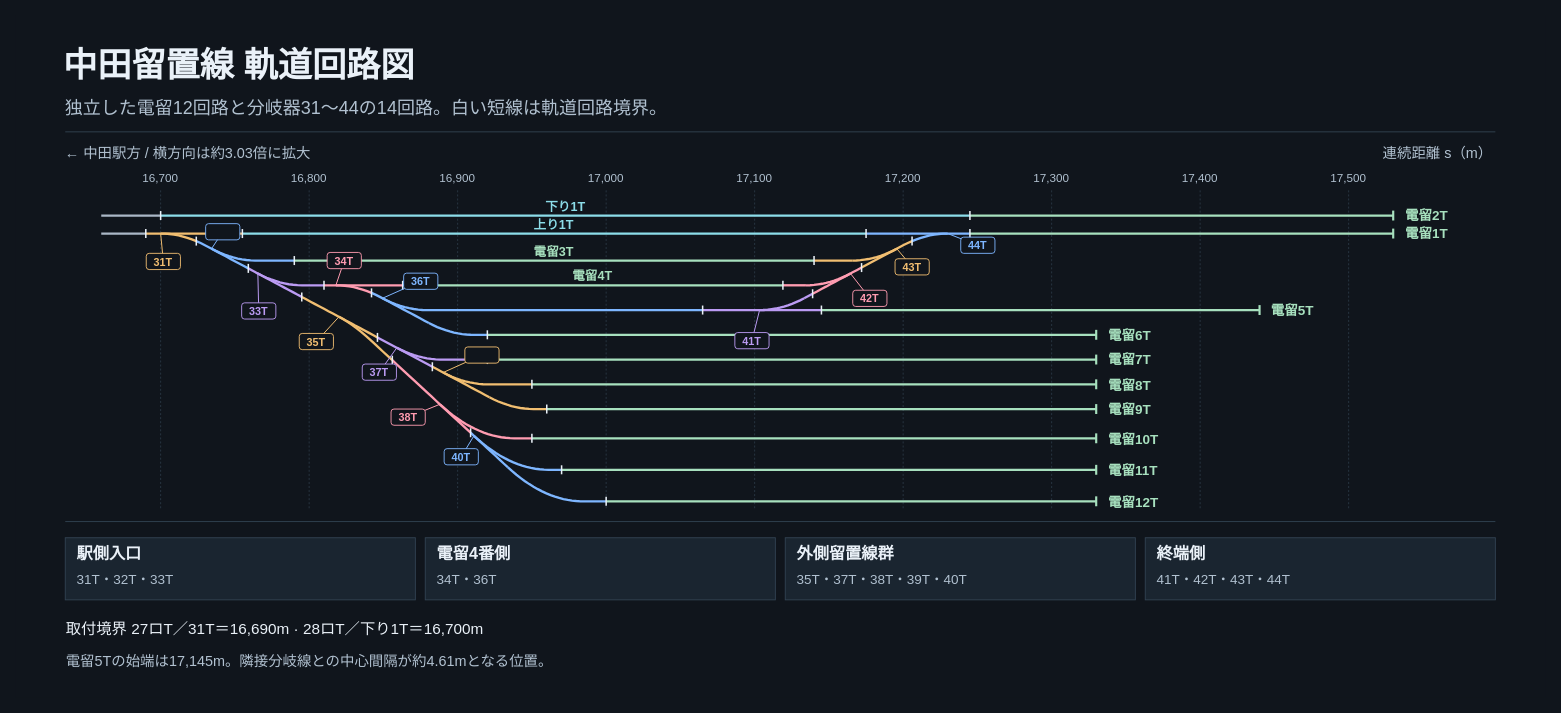
Some shapes in this 1561 by 713 pixel diagram are drawn without their labels. Each missing label, with the centre of its shape:
"32T" goes at pixel 222 231.
"39T" goes at pixel 481 354.
